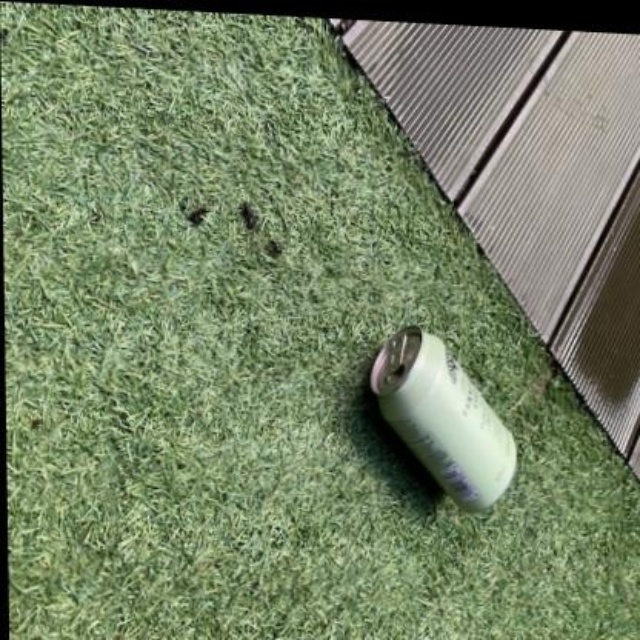trash: (371, 326, 515, 509)
